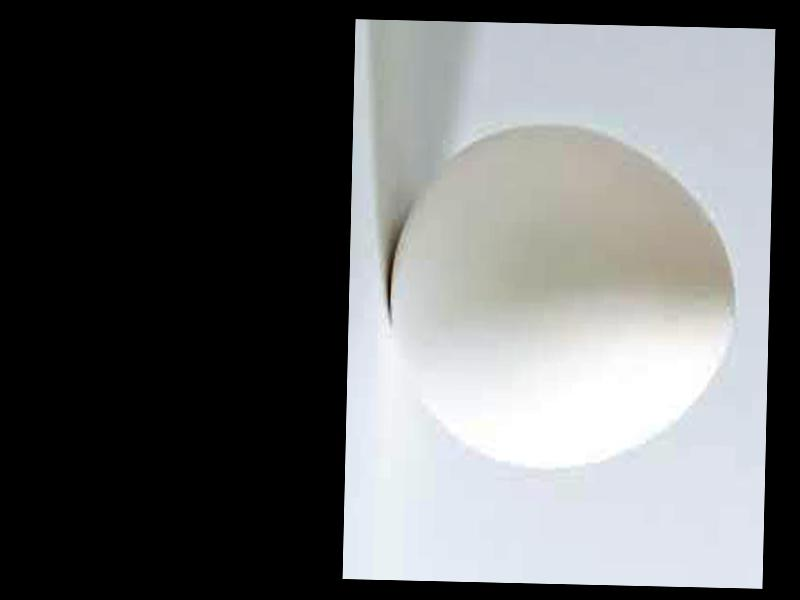Eggs: (386, 124, 740, 471)
